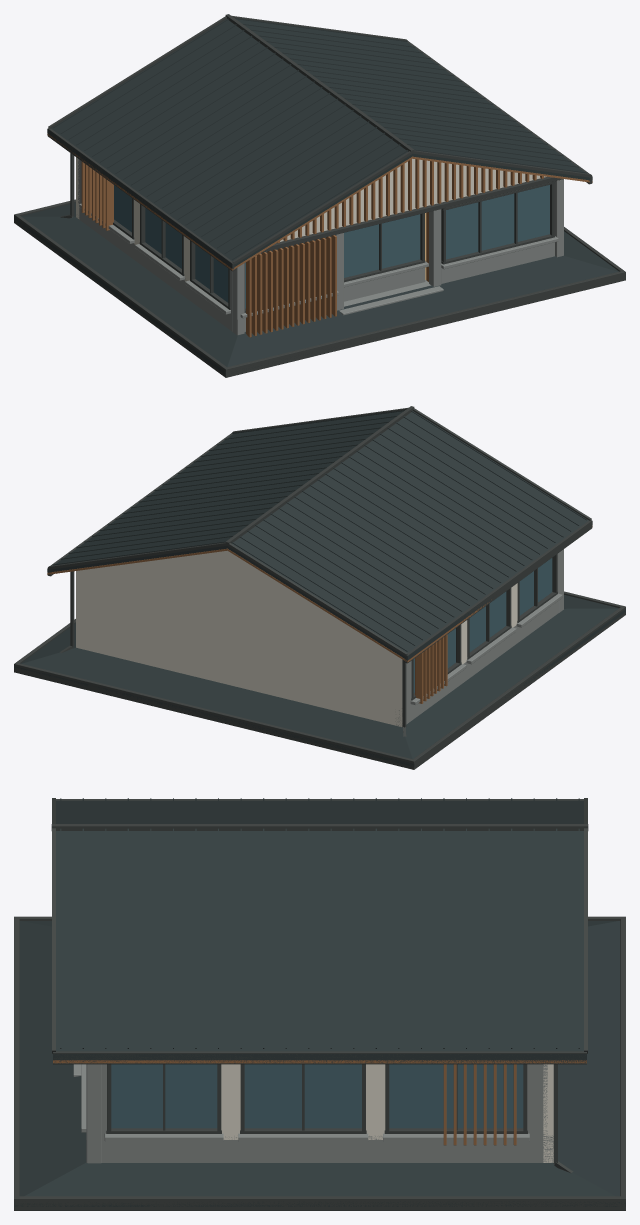
File: Cinema_UpperStoreyRoofRevision.fbx
3 renders of one model, top to bottom at view 1: azimuth 30°, elevation 25°; view 2: azimuth 150°, elevation 25°; view 3: azimuth 270°, elevation 25°, orthographic. The views are drawn at different scales.
Parts seen in each view (by area): view 1: AR_CinemaLobby_RV_MainRoofSlope_1, AR_CinemaLobby_RV_MainRoofSlope_0, AR_CinemaLobby_RV_LowerPitchedCanopy_0, AR_CinemaLobby_RV_LowerPitchedCanopy_3, AR_CinemaLobby_RV_RightBay_Glass, AR_CinemaLobby_RV_LowerFasciaY_-1, AR_CinemaLobby_RV_GableInfill_-1, AR_CinemaLobby_RV_RecessBay_Glass, AR_CinemaLobby_RV_UpperSideStoneBase_-1, AR_CinemaLobby_RV_LowerFasciaX_-1, AR_CinemaLobby_RV_UpperFrontShadowCourse, AR_CinemaLobby_RV_UpperEaveFascia_-1 (+17 smaller); view 2: AR_CinemaLobby_RV_MainRoofSlope_1, AR_CinemaLobby_RV_UpperRearWall, AR_CinemaLobby_RV_MainRoofSlope_0, AR_CinemaLobby_RV_LowerPitchedCanopy_2, AR_CinemaLobby_RV_LowerPitchedCanopy_3, AR_CinemaLobby_RV_GableInfill_1, AR_CinemaLobby_RV_LowerFasciaY_1, AR_CinemaLobby_RV_LowerFasciaX_-1, AR_CinemaLobby_RV_UpperSideStoneBase_-1, AR_CinemaLobby_RV_UpperEaveFascia_-1, AR_CinemaLobby_RV_MainRidgeCap, AR_CinemaLobby_RV_SideWindow_(-1, 1)_Glass (+7 smaller); view 3: AR_CinemaLobby_RV_MainRoofSlope_0, AR_CinemaLobby_RV_LowerPitchedCanopy_1, AR_CinemaLobby_RV_MainRoofSlope_1, AR_CinemaLobby_RV_LowerPitchedCanopy_0, AR_CinemaLobby_RV_LowerPitchedCanopy_2, AR_CinemaLobby_RV_UpperSideStoneBase_1, AR_CinemaLobby_RV_LowerFasciaX_1, AR_CinemaLobby_RV_SideWindow_(1, 2)_Glass, AR_CinemaLobby_RV_SideWindow_(1, 1)_Glass, AR_CinemaLobby_RV_SideWindow_(1, 0)_Glass, AR_CinemaLobby_RV_UpperEaveFascia_1, AR_CinemaLobby_RV_MainRidgeCap (+18 smaller).
Boxes of the visible parts, bbox=[...] form: AR_CinemaLobby_RV_MainRoofSlope_1: bbox=[47, 19, 412, 268]; AR_CinemaLobby_RV_MainRoofSlope_0: bbox=[236, 19, 592, 180]; AR_CinemaLobby_RV_LowerPitchedCanopy_0: bbox=[225, 255, 625, 374]; AR_CinemaLobby_RV_LowerPitchedCanopy_3: bbox=[14, 216, 237, 374]; AR_CinemaLobby_RV_RightBay_Glass: bbox=[446, 185, 549, 259]; AR_CinemaLobby_RV_LowerFasciaY_-1: bbox=[224, 270, 625, 377]; AR_CinemaLobby_RV_GableInfill_-1: bbox=[280, 158, 546, 241]; AR_CinemaLobby_RV_RecessBay_Glass: bbox=[344, 214, 420, 277]; AR_CinemaLobby_RV_UpperSideStoneBase_-1: bbox=[79, 207, 244, 335]; AR_CinemaLobby_RV_LowerFasciaX_-1: bbox=[14, 214, 228, 377]; AR_CinemaLobby_RV_UpperFrontShadowCourse: bbox=[261, 176, 563, 252]; AR_CinemaLobby_RV_UpperEaveFascia_-1: bbox=[47, 128, 235, 271]; AR_CinemaLobby_RV_MainRoofSlope_1: bbox=[227, 411, 592, 660]; AR_CinemaLobby_RV_UpperRearWall: bbox=[76, 569, 402, 726]; AR_CinemaLobby_RV_MainRoofSlope_0: bbox=[47, 411, 403, 572]; AR_CinemaLobby_RV_LowerPitchedCanopy_2: bbox=[14, 647, 414, 766]; AR_CinemaLobby_RV_LowerPitchedCanopy_3: bbox=[402, 608, 625, 758]; AR_CinemaLobby_RV_GableInfill_1: bbox=[92, 550, 362, 634]; AR_CinemaLobby_RV_LowerFasciaY_1: bbox=[14, 663, 415, 769]; AR_CinemaLobby_RV_LowerFasciaX_-1: bbox=[411, 606, 625, 769]; AR_CinemaLobby_RV_UpperSideStoneBase_-1: bbox=[395, 600, 558, 726]; AR_CinemaLobby_RV_UpperEaveFascia_-1: bbox=[404, 520, 592, 663]; AR_CinemaLobby_RV_MainRidgeCap: bbox=[225, 406, 414, 545]; AR_CinemaLobby_RV_SideWindow_(-1, 1)_Glass: bbox=[469, 591, 506, 652]; AR_CinemaLobby_RV_MainRoofSlope_0: bbox=[53, 831, 586, 1059]; AR_CinemaLobby_RV_LowerPitchedCanopy_1: bbox=[14, 1163, 625, 1206]; AR_CinemaLobby_RV_MainRoofSlope_1: bbox=[56, 800, 583, 823]; AR_CinemaLobby_RV_LowerPitchedCanopy_0: bbox=[19, 921, 86, 1196]; AR_CinemaLobby_RV_LowerPitchedCanopy_2: bbox=[558, 921, 620, 1196]; AR_CinemaLobby_RV_UpperSideStoneBase_1: bbox=[86, 1135, 553, 1162]; AR_CinemaLobby_RV_LowerFasciaX_1: bbox=[14, 1196, 625, 1210]; AR_CinemaLobby_RV_SideWindow_(1, 2)_Glass: bbox=[389, 1064, 523, 1128]; AR_CinemaLobby_RV_SideWindow_(1, 1)_Glass: bbox=[244, 1064, 361, 1128]; AR_CinemaLobby_RV_SideWindow_(1, 0)_Glass: bbox=[111, 1064, 217, 1128]; AR_CinemaLobby_RV_UpperEaveFascia_1: bbox=[53, 1051, 586, 1064]; AR_CinemaLobby_RV_MainRidgeCap: bbox=[51, 824, 588, 830].
Size of the model in its own units: 1200 by 495 by 1100.
